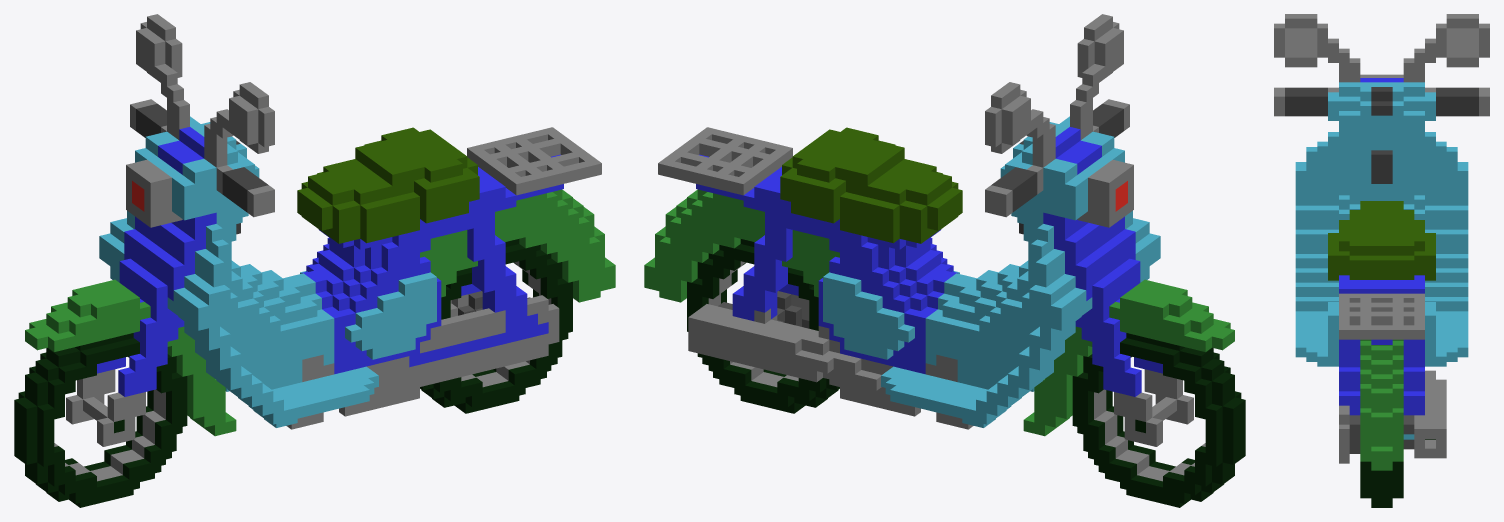
Rendered from LayMen-1-Scooter.obj.
3 views of the same model, side by side, from view 1: azimuth 30°, elevation 25°; view 2: azimuth 150°, elevation 25°; view 3: azimuth 270°, elevation 25° (orthographic). The views are drawn at different scales.
Visible parts, largest first — view 1: Scooter; view 2: Scooter; view 3: Scooter.
Part boxes in pixels (x1=…): Scooter: x1=14, y1=14, x2=615, y2=507; Scooter: x1=644, y1=14, x2=1245, y2=507; Scooter: x1=1274, y1=14, x2=1489, y2=507.
Bounding box in the file's own units: 5.5 × 3.7 × 2.
Materials: 1 (1 with a texture image).
